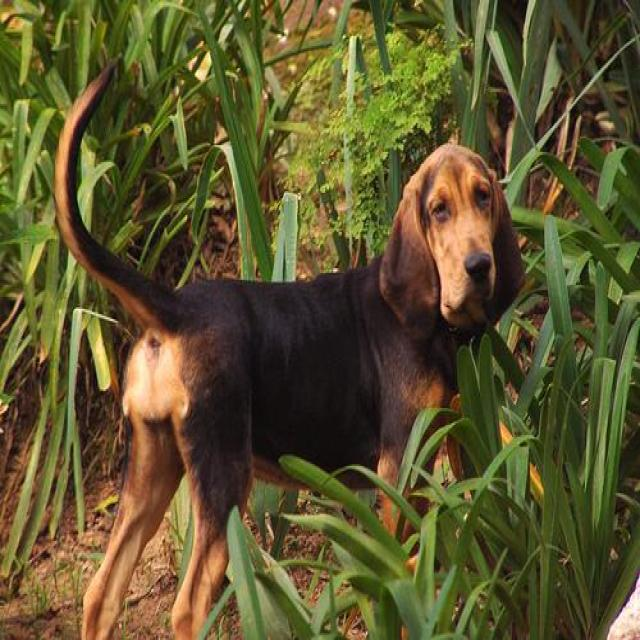bloodhound: (0, 59, 524, 636)
